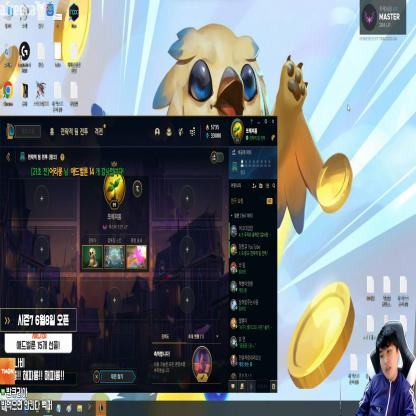streamer: (354, 324, 416, 416)
